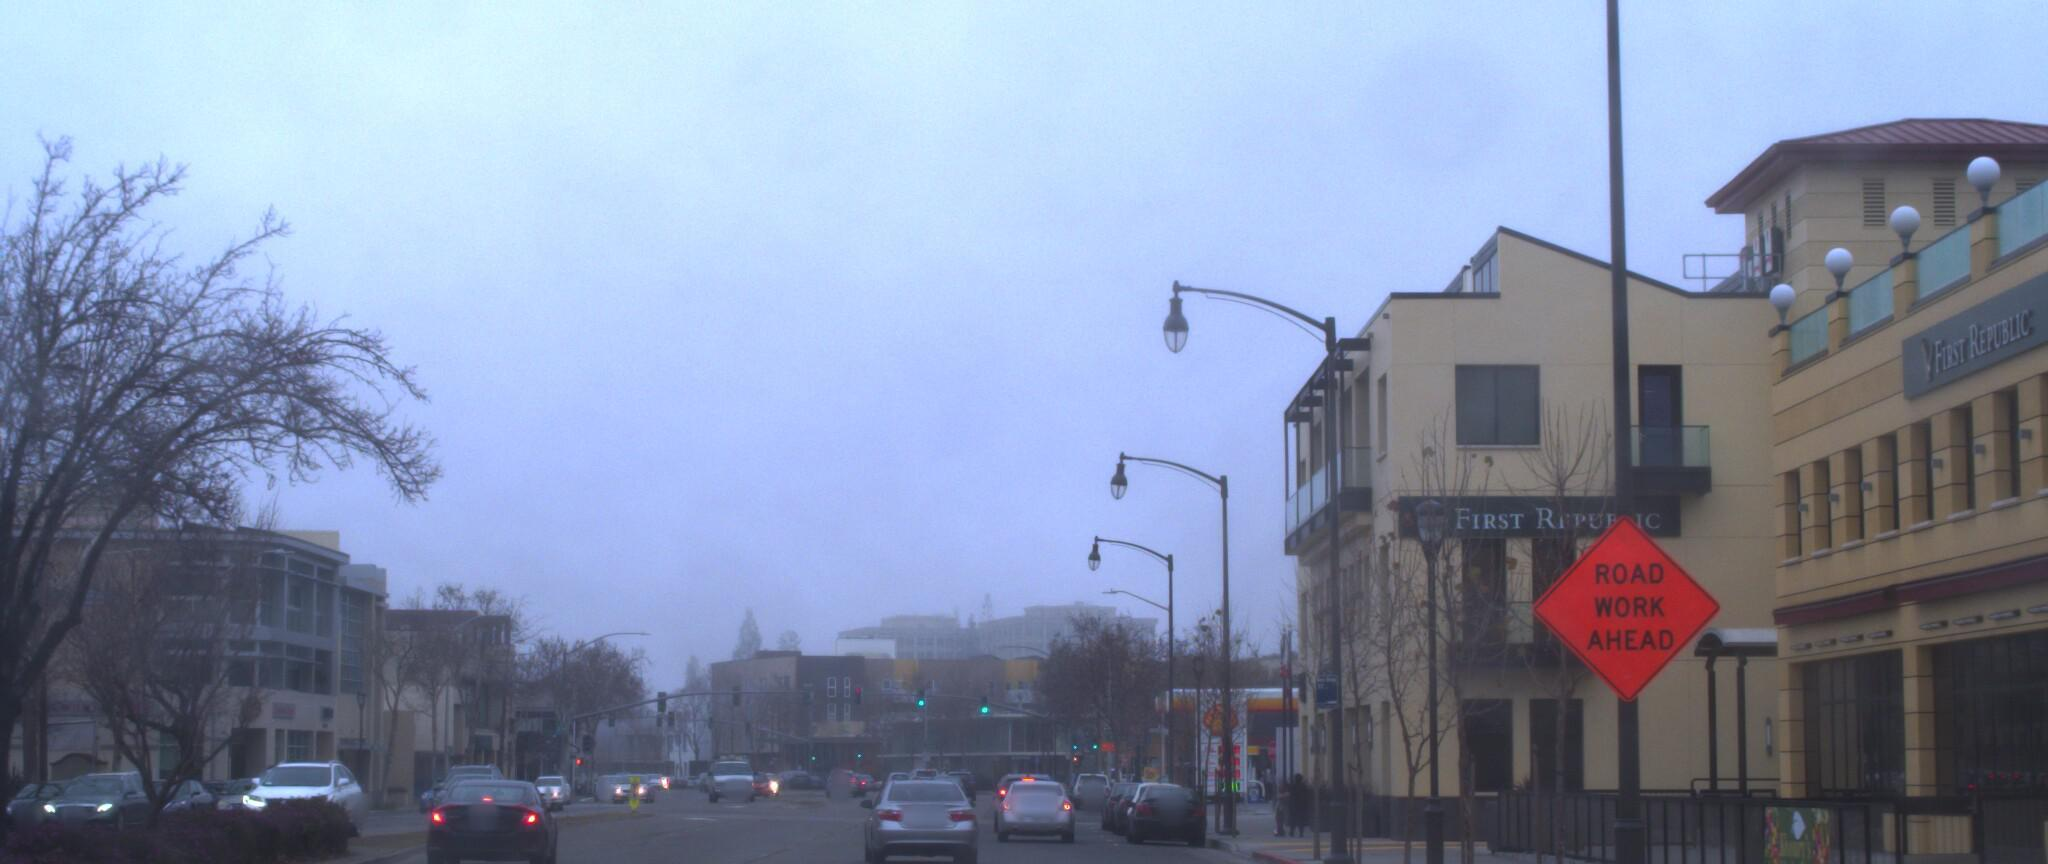car: (411, 766, 564, 864), (849, 760, 976, 864), (253, 747, 385, 831), (48, 771, 172, 839), (993, 774, 1078, 838), (1121, 779, 1204, 842)
